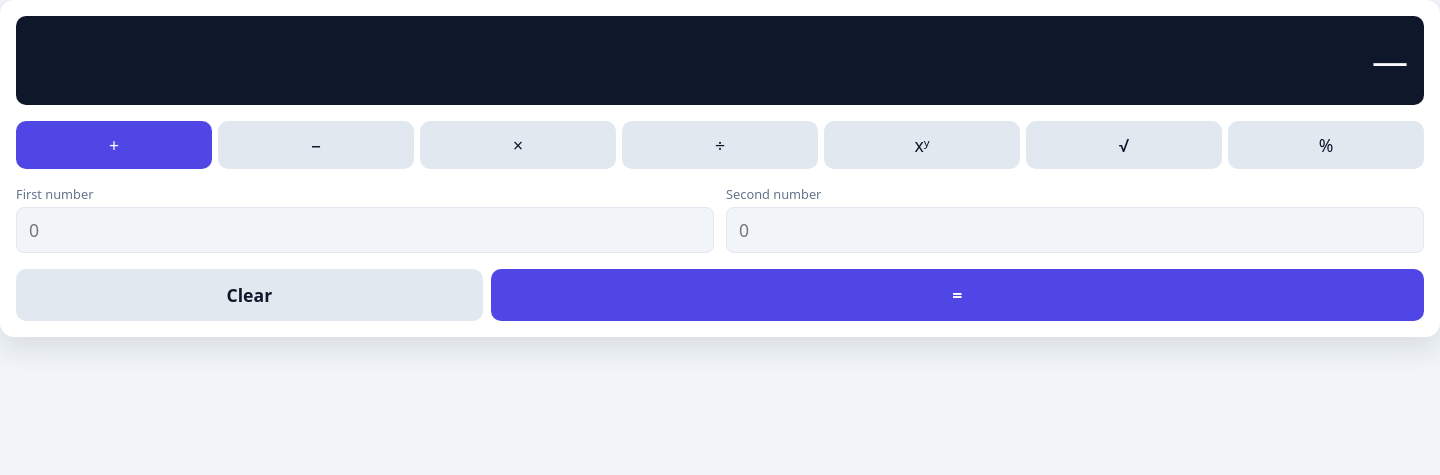
Calculator › shows a single input for square root
Click the radio button named "Square root" at (1124, 145), box [1026,121,1222,169]
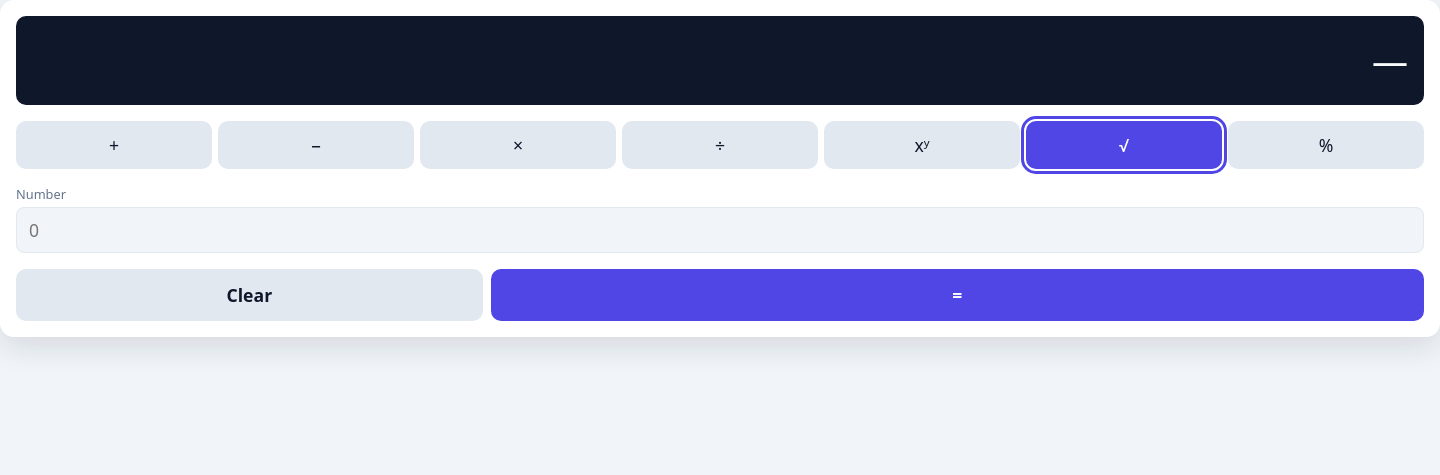
Check: the label labelled "Second number" is gone
Type "16" into the field labelled "Number" at (720, 230), box [16,207,1424,253]
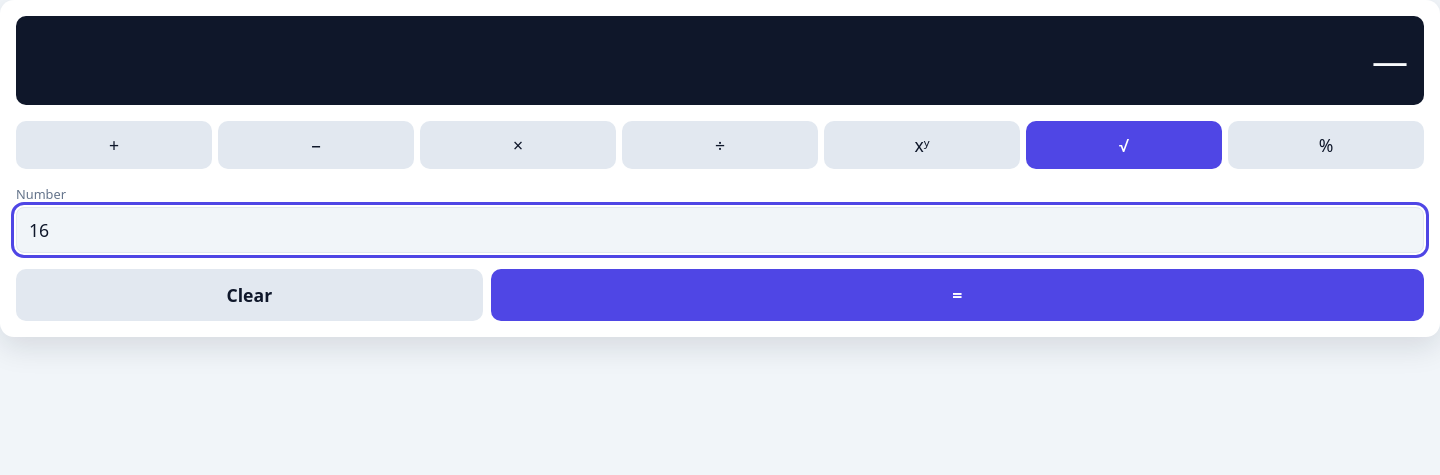
Click the button "=" at (957, 295), box [491,269,1424,321]
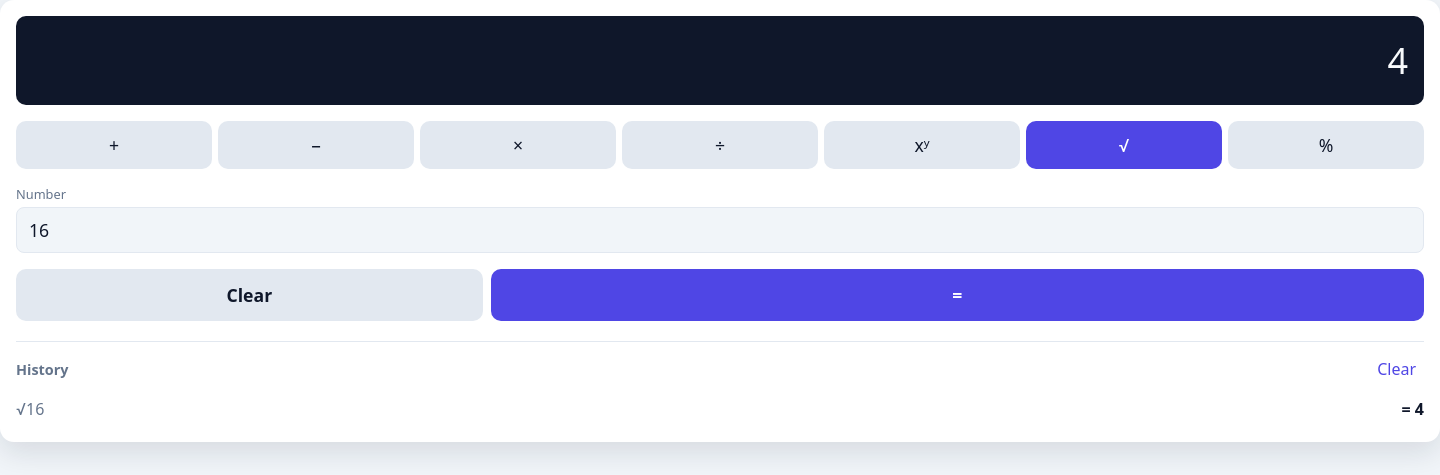
Check: the text with test id "result" reads "4", box [1387,36,1408,85]
Check: the text "√16" is shown, box [16,398,44,420]
